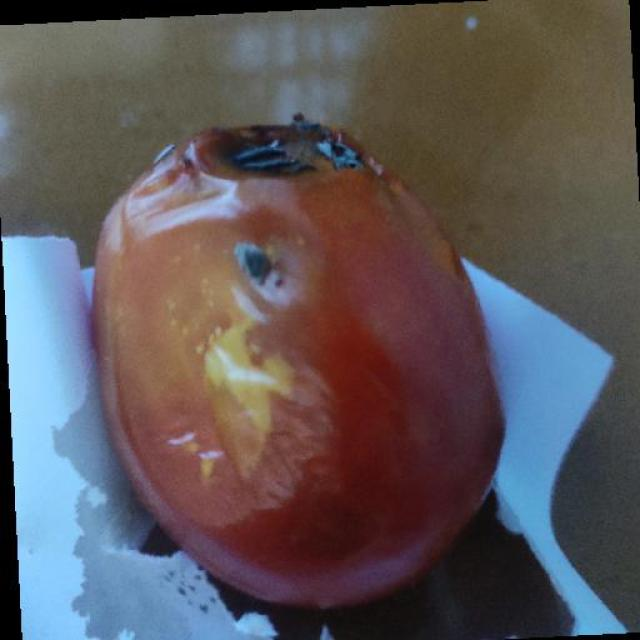Stale_tomato: (55, 94, 496, 598)
